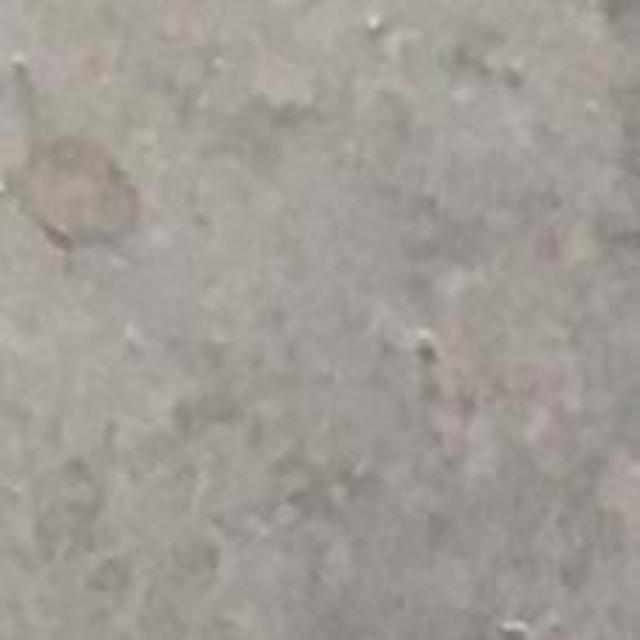peeling plaster: (3, 57, 143, 259)
